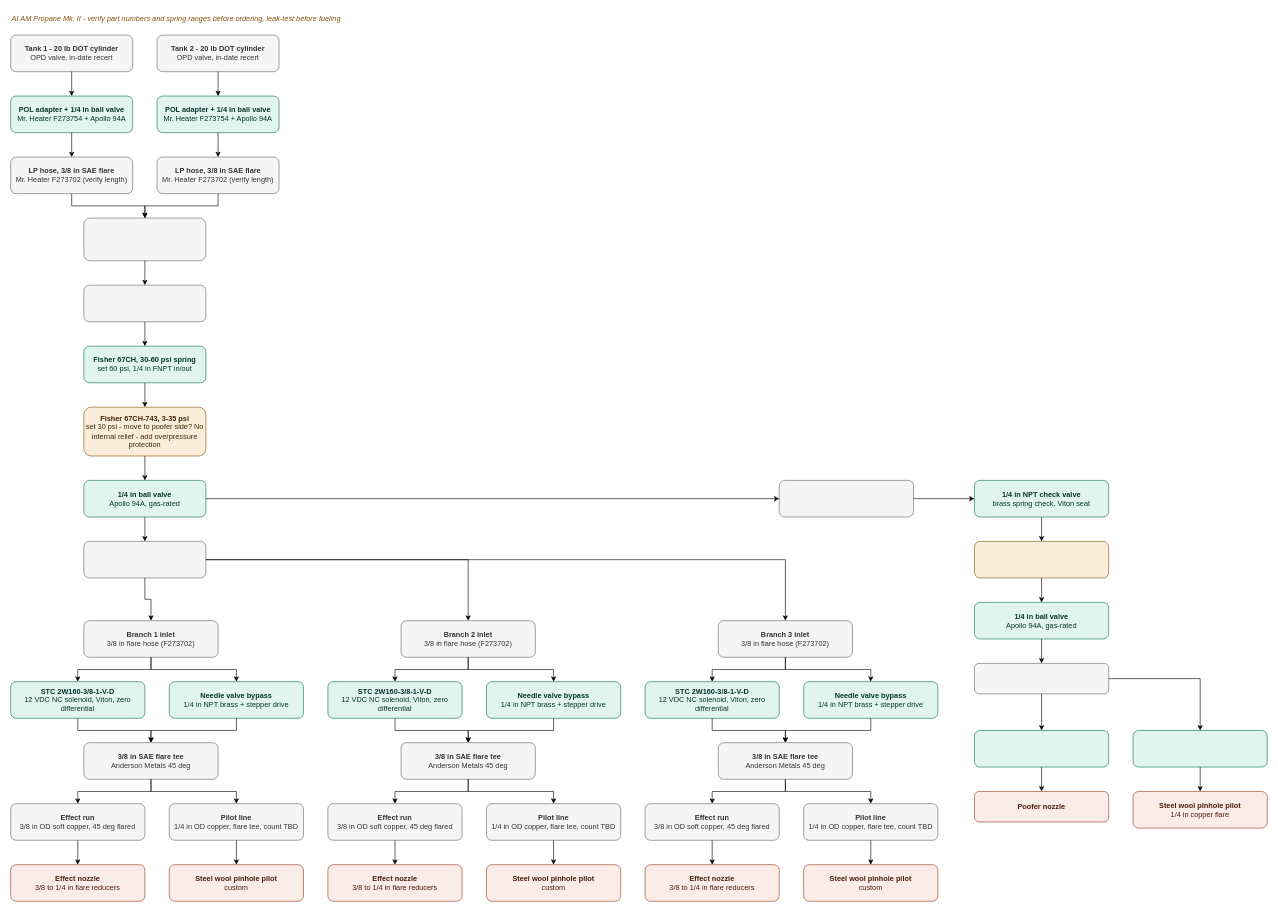
The diagram is 1278 pixels wide and 912 high, and some of its shapes have lost their labels. The centre of each missing label's shape, as x and y in pixels:
1/2 in NPT brass tee: point 1041,678
1/4 in needle valve pilot flow: point 1199,748
3/8 in SAE flare branch tee Anderson Metals 45 deg flare (cross for 3 tanks): point 144,239
Accumulator DOT-certified LP cylinder, in-date only: point 1041,559
Brass manifold, 1/4 in FNPT x3 1/4 MNPT x 3/8 flare outlet adapters: point 144,559
LP hose to accumulator 3/8 in SAE flare (F273702): point 846,498
LP hose, 3/8 in SAE flare Apollo 94A 1/4 in ball valve each end: point 144,303
STC 2W160-1/2-1-V-D 12 VDC NC dump solenoid, Viton: point 1041,748
